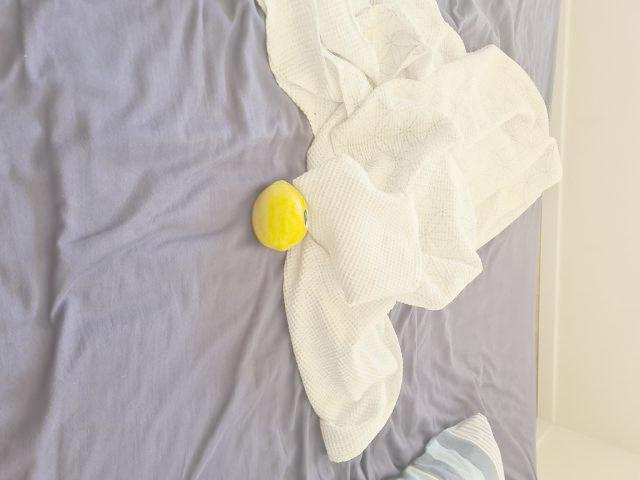lemon: (253, 178, 307, 253)
